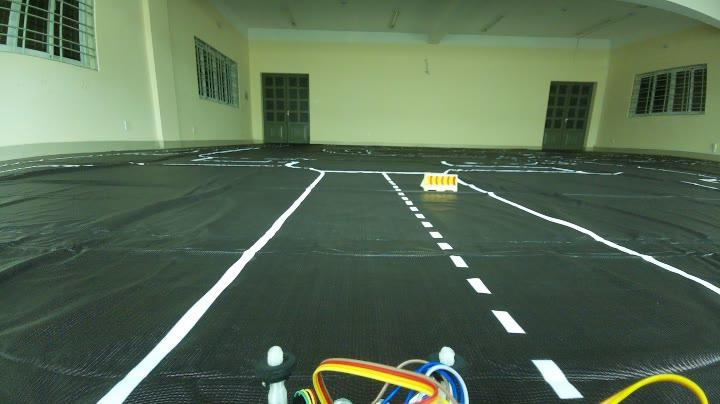roadblock: (415, 166, 463, 196)
